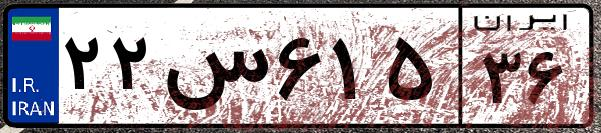1: (330, 28, 385, 110)
2: (57, 26, 110, 100), (110, 28, 158, 98)
3: (475, 38, 525, 113)
5: (385, 28, 445, 110)
6: (270, 28, 330, 110), (525, 38, 570, 115)
س: (158, 20, 270, 120)
